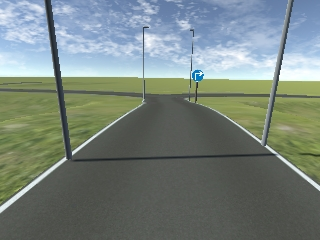right: (192, 70, 204, 82)
